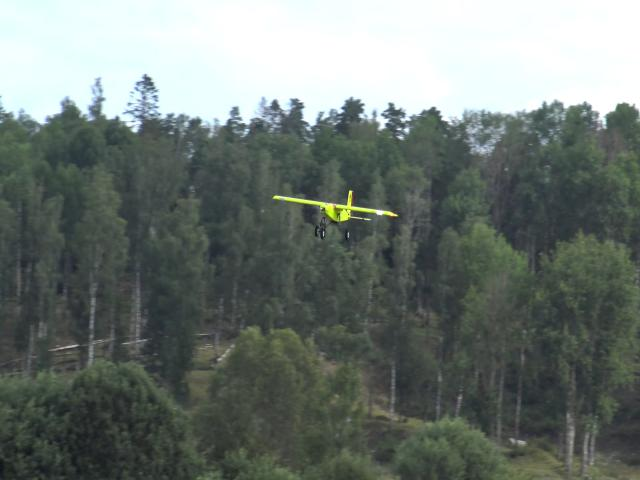plane: (274, 190, 398, 240)
